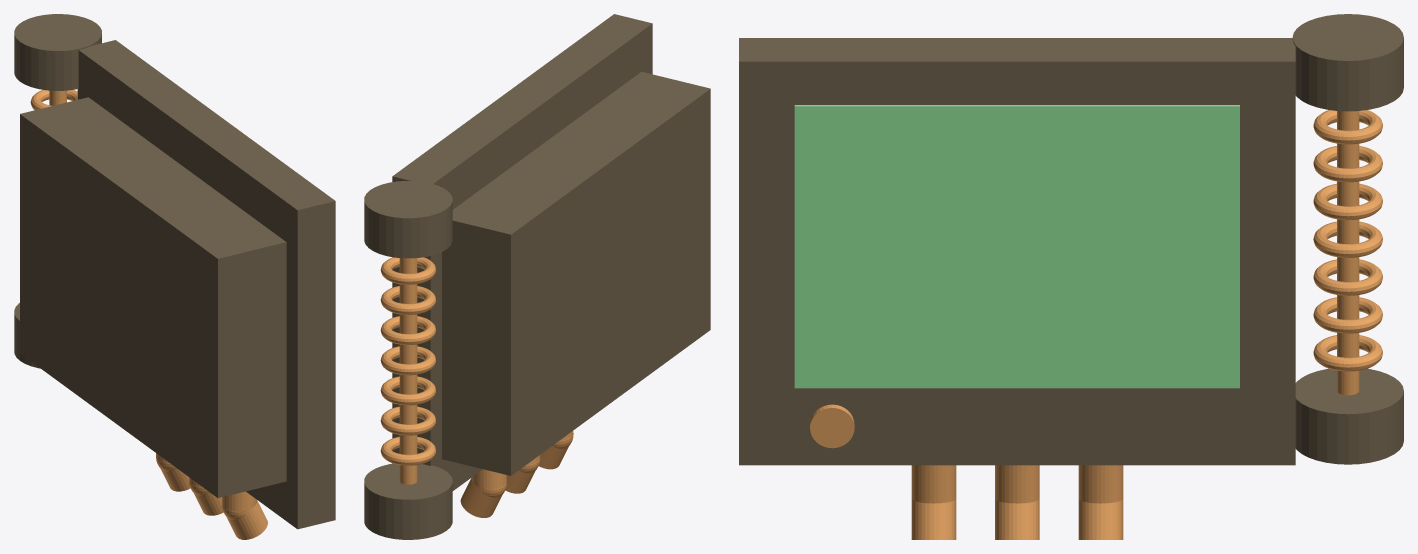
The model's file is console(on).fbx.
The picture shows the model from 3 angles, left to right: view 1: azimuth 30°, elevation 25°; view 2: azimuth 150°, elevation 25°; view 3: azimuth 270°, elevation 25°; orthographic projection. The views are drawn at different scales.
Parts seen in each view (by area): view 1: screen; view 2: screen; view 3: screen.
Part boxes in pixels (left/top/right/bottom): screen: left=14, top=14, right=335, bottom=539; screen: left=364, top=14, right=710, bottom=539; screen: left=739, top=14, right=1403, bottom=539.
Size of the model in its own units: 61.35 by 195 by 239.
